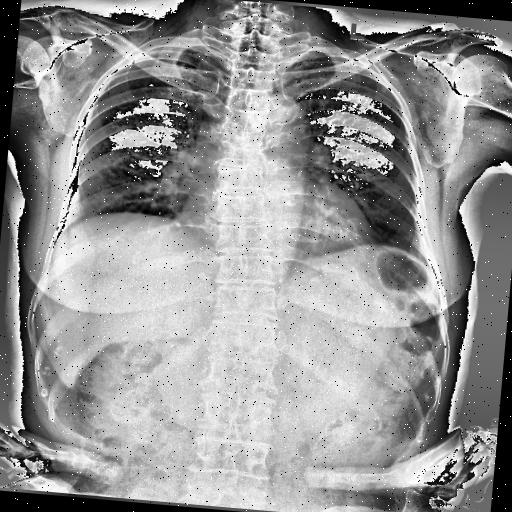0- Aortic enlargement: (244, 92, 318, 164), (253, 94, 315, 160), (248, 89, 312, 133)
13- Pulmonary fibrosis: (170, 107, 198, 144)
3- Cardiomegaly: (173, 180, 378, 256), (170, 192, 388, 260), (176, 206, 374, 243)
6- Infiltration: (72, 128, 192, 228)
